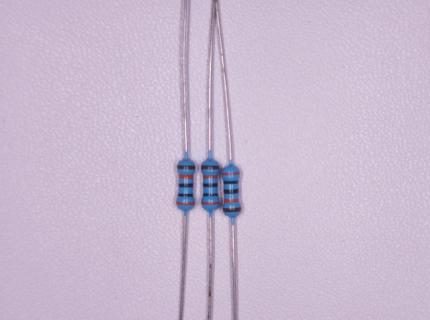Black band: (224, 189, 239, 193), (179, 184, 193, 188), (204, 183, 218, 187), (179, 193, 193, 197), (204, 193, 218, 196), (224, 181, 238, 184)
Brown band: (224, 207, 241, 212), (202, 165, 219, 169), (178, 165, 194, 169)
Orange band: (225, 198, 239, 203), (177, 201, 194, 205), (179, 175, 193, 179), (222, 172, 240, 175), (204, 175, 217, 179), (203, 201, 219, 204)
